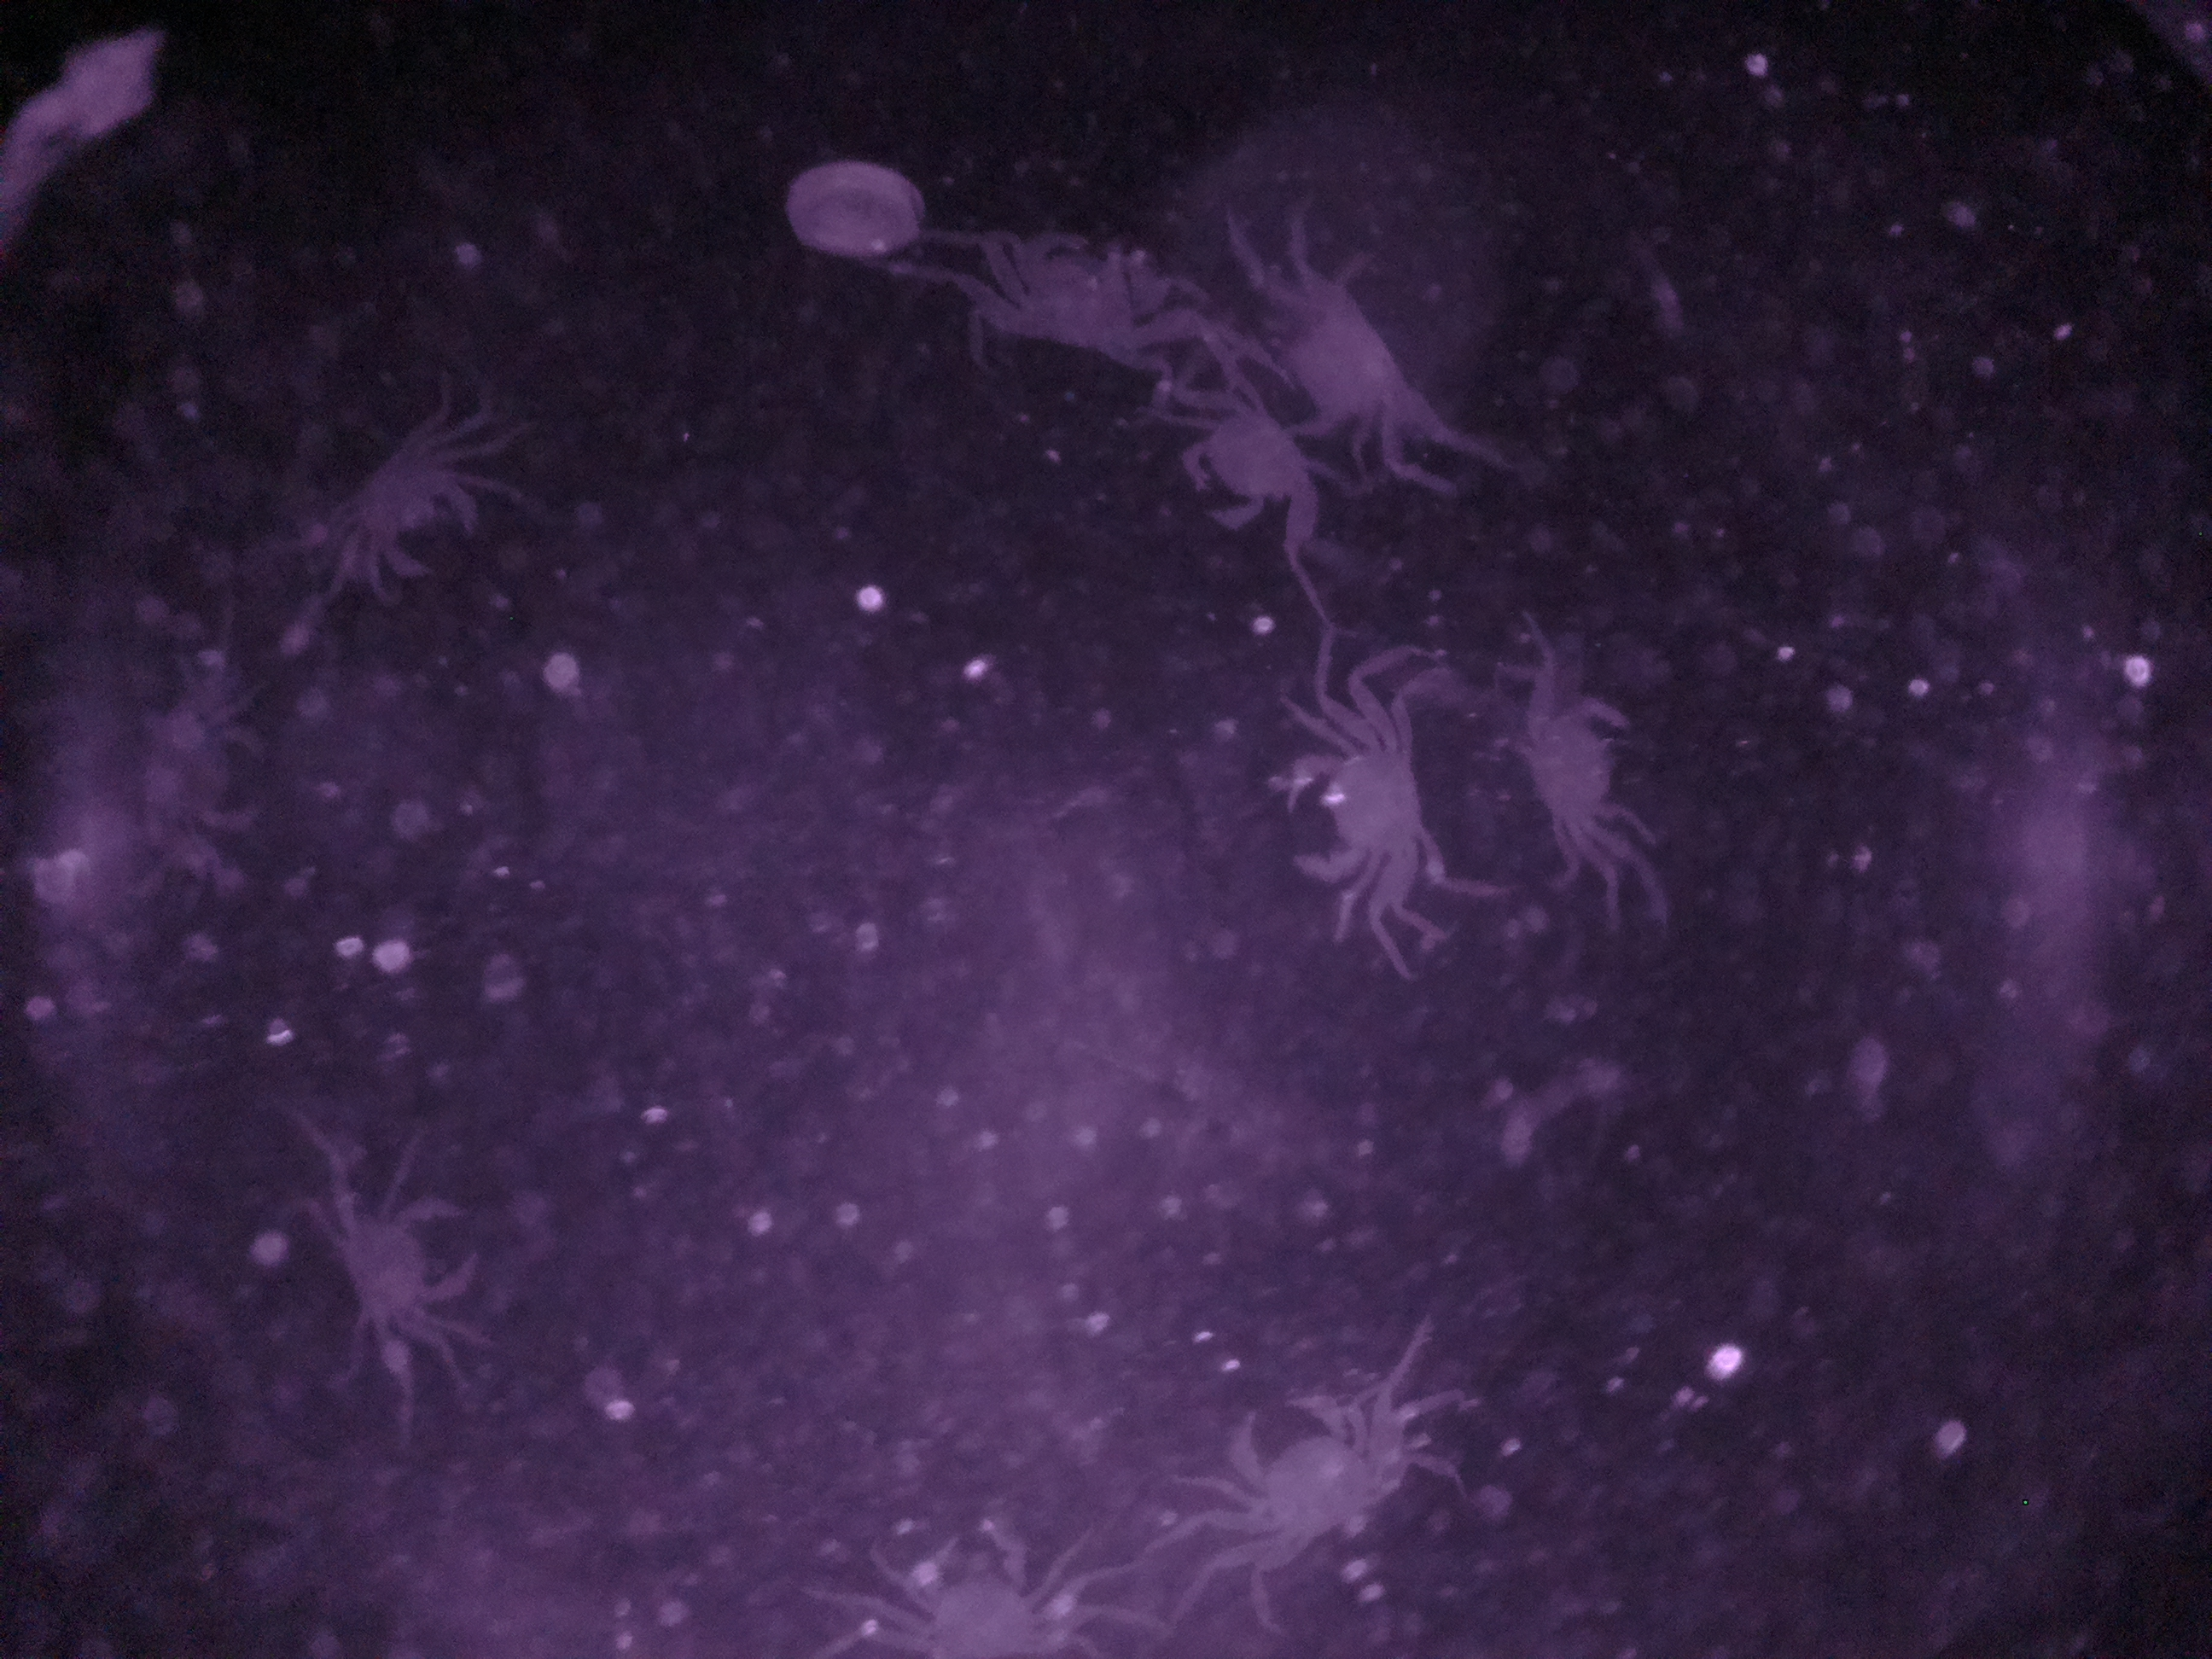Crab: (1254, 253, 1468, 495), (1181, 1375, 1406, 1582), (965, 213, 1191, 382), (1268, 708, 1453, 910), (1475, 662, 1660, 863), (327, 1185, 509, 1340)
